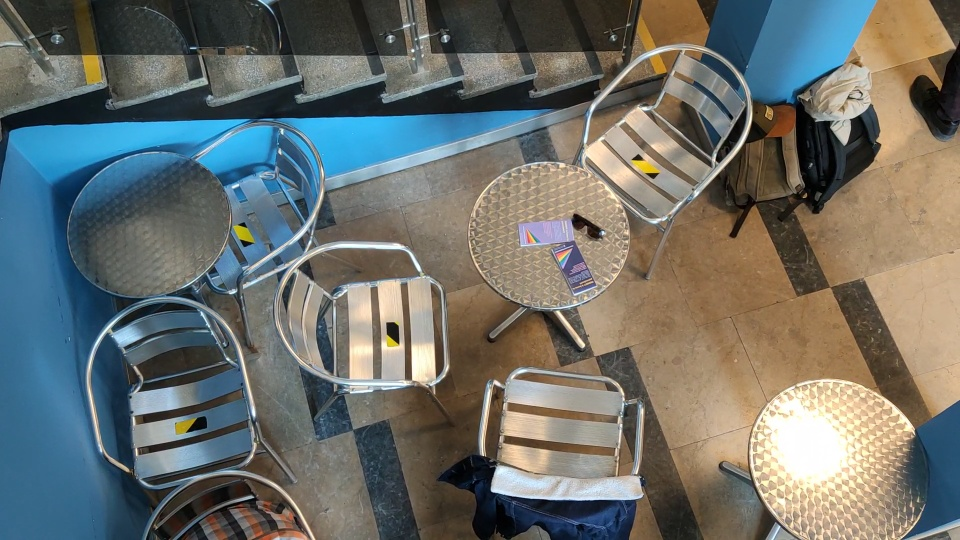chair: (576, 44, 761, 279), (89, 295, 297, 480), (267, 240, 451, 414), (196, 119, 360, 309), (477, 359, 649, 516)
table: (717, 379, 933, 538), (461, 159, 635, 354), (63, 147, 237, 299)
